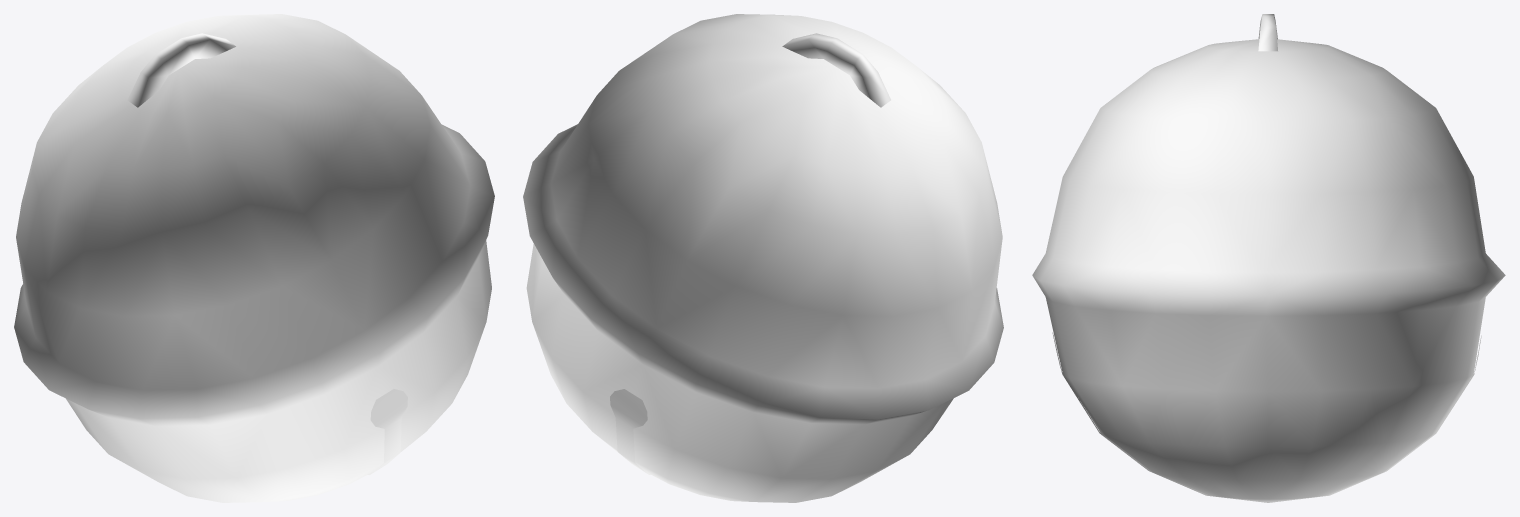
File: suzu.ico.obj
3 renders of one model, left to right at view 1: azimuth 30°, elevation 25°; view 2: azimuth 150°, elevation 25°; view 3: azimuth 270°, elevation 25°, orthographic. The views are drawn at different scales.
Bounding box in the file's own units: 3.82 × 4.01 × 3.98.
Materials: 1 (1 with a texture image).
